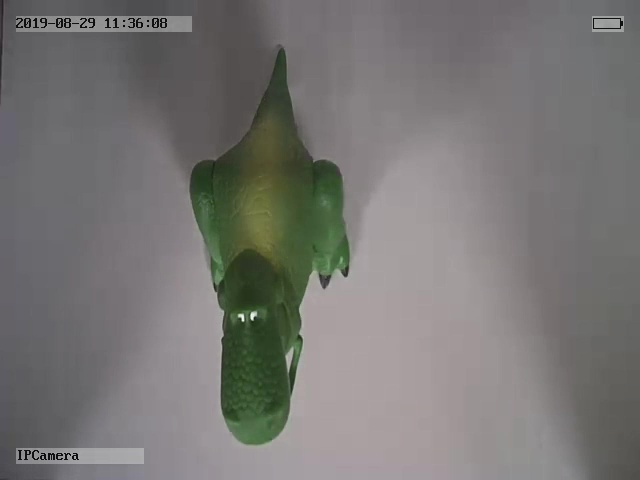rex: (186, 47, 354, 448)
